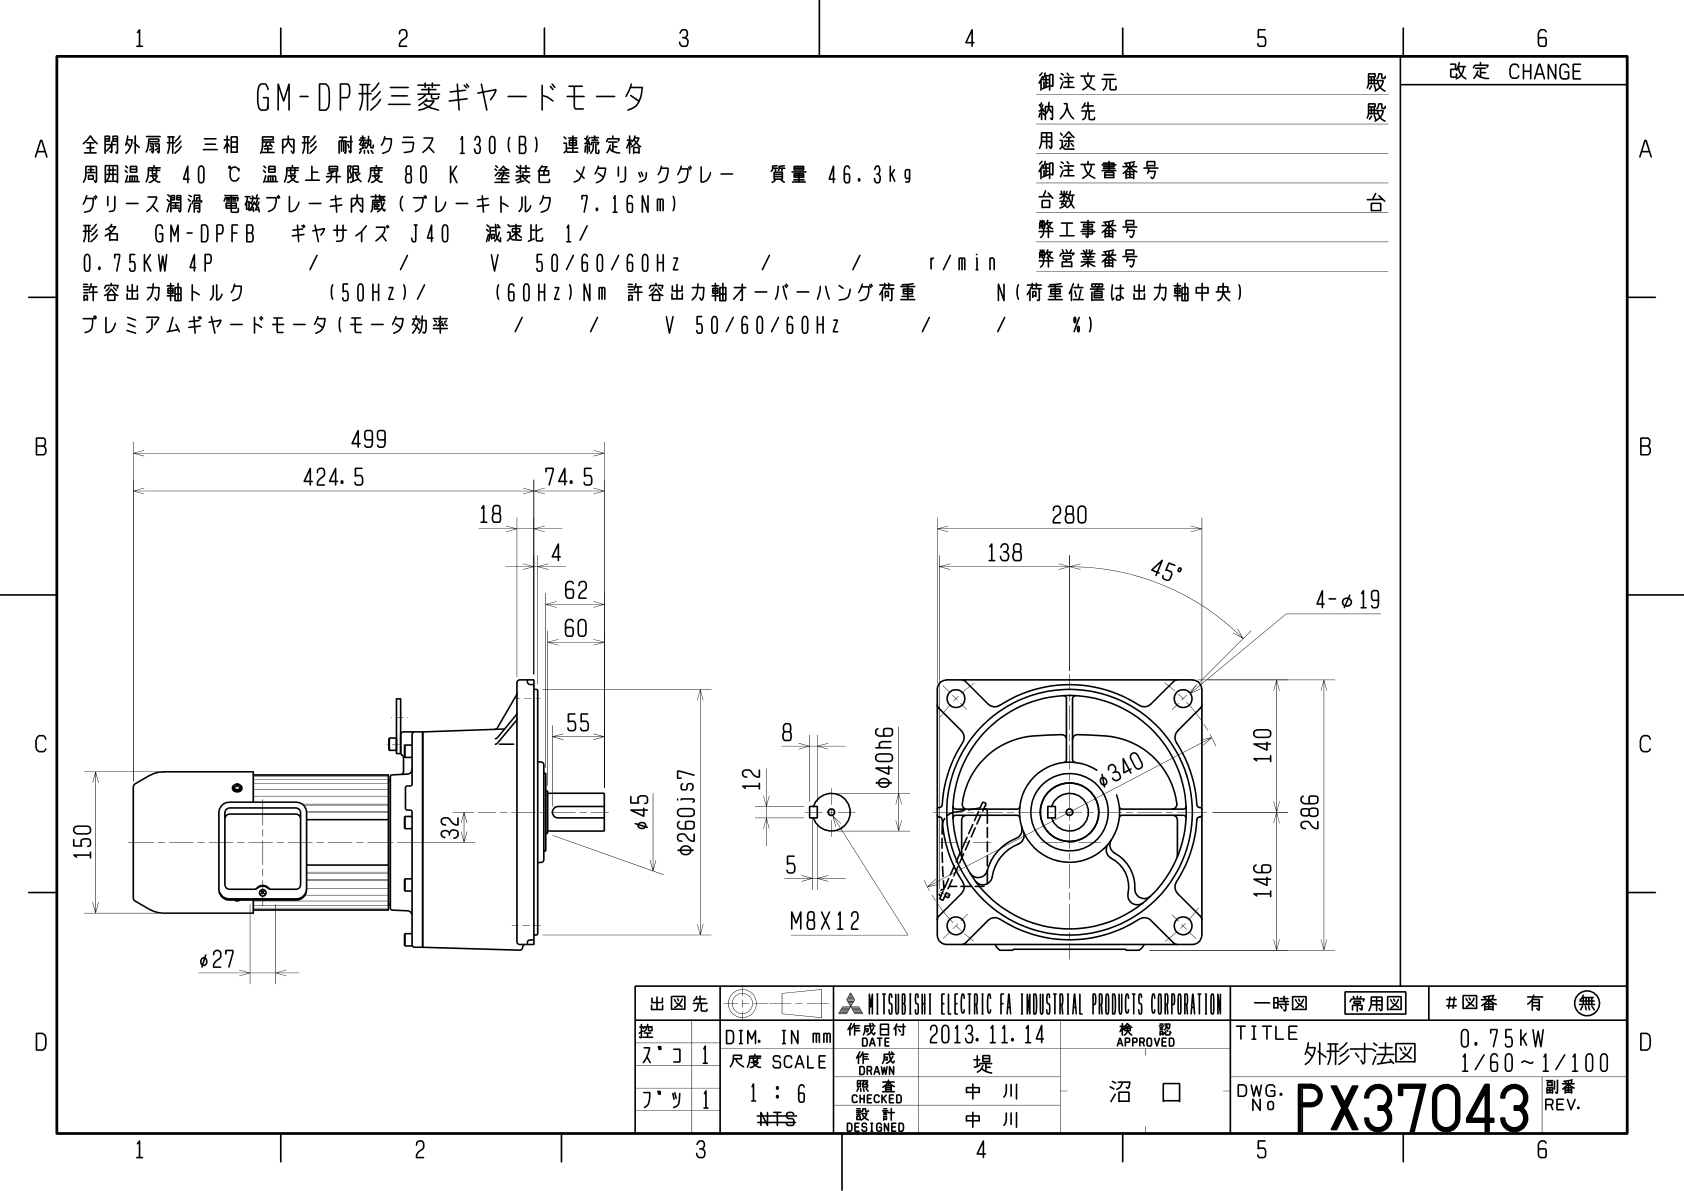GM_DP_屋内_三相_フランジ: (12, 12, 1672, 1176)
